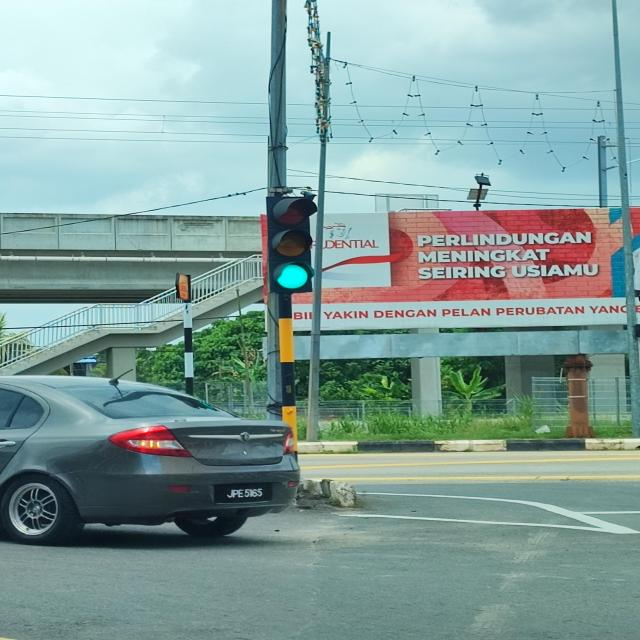car: (0, 372, 301, 546)
traffic light: (266, 194, 317, 294), (176, 273, 191, 301)
